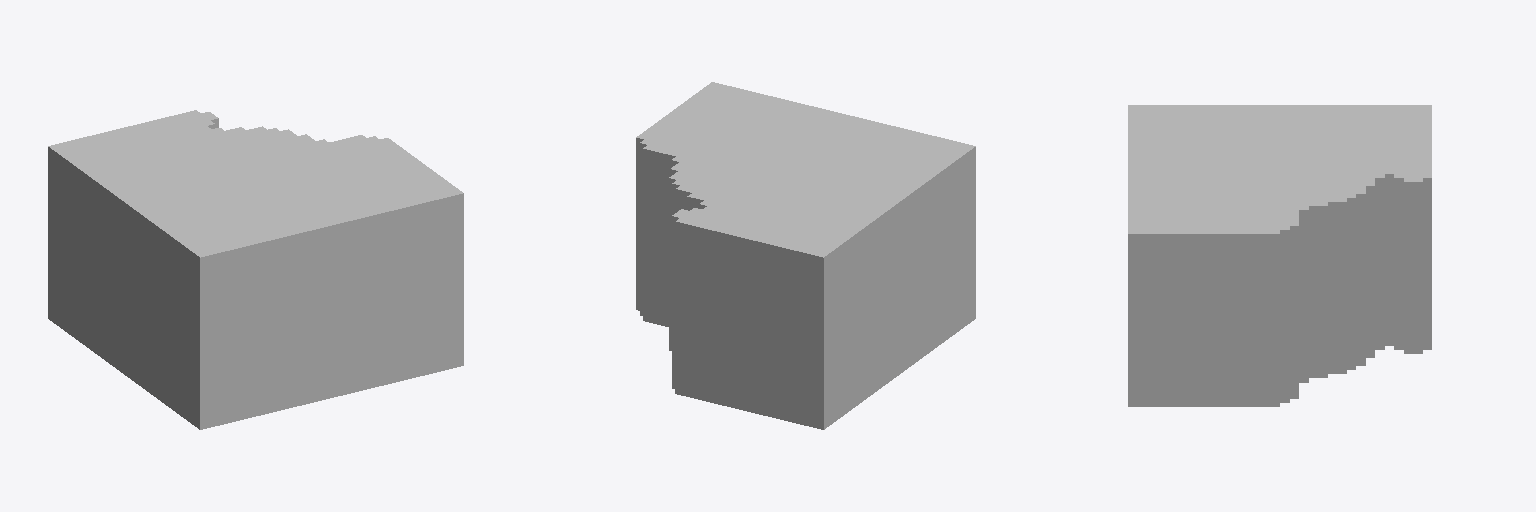
The model's file is pondtile-8.obj.
3 renders of one model, left to right at view 1: azimuth 30°, elevation 25°; view 2: azimuth 150°, elevation 25°; view 3: azimuth 270°, elevation 25°, orthographic.
Parts seen in each view (by area): view 1: pondtile-8; view 2: pondtile-8; view 3: pondtile-8.
Boxes of the visible parts, box(x1,y1,x2,y2) form: pondtile-8: box(48, 110, 463, 429); pondtile-8: box(636, 82, 975, 429); pondtile-8: box(1128, 105, 1431, 406).
Bounding box in the file's own units: 3.2 × 2 × 3.2.